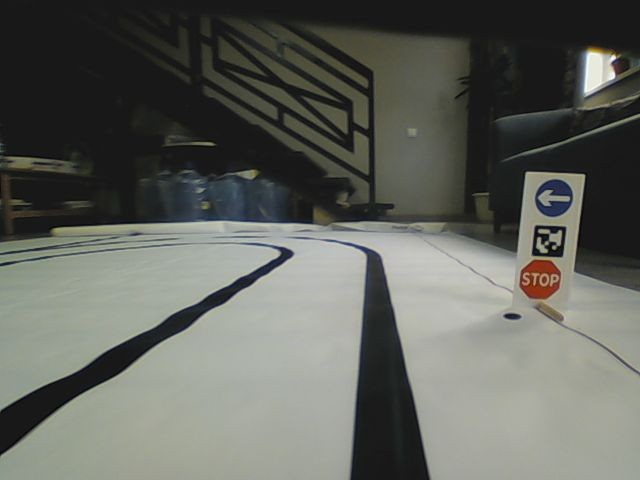Stop: (518, 258, 561, 299)
